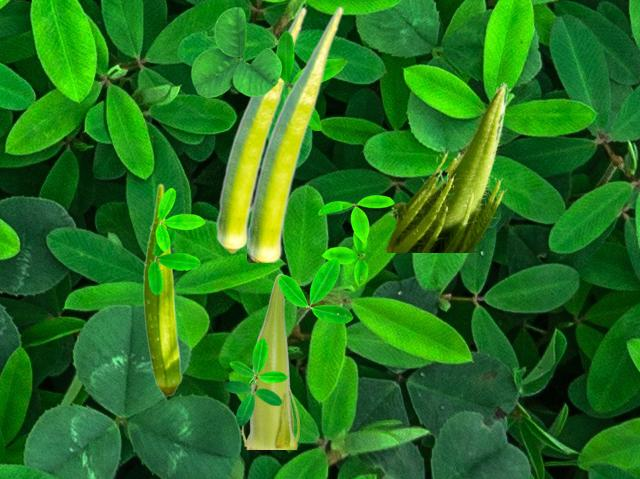okra: (247, 5, 342, 261), (216, 6, 306, 253), (383, 81, 510, 251), (240, 273, 298, 448), (143, 183, 181, 396)
